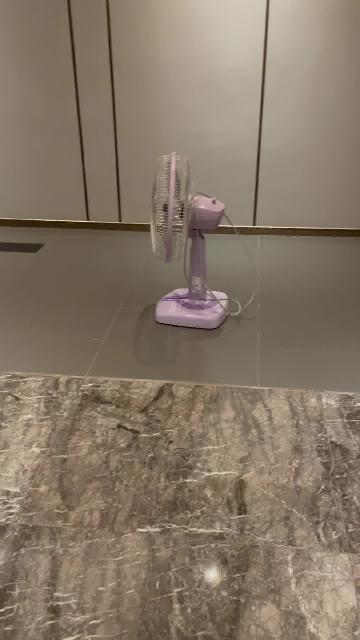Fan: (151, 153, 229, 330)
